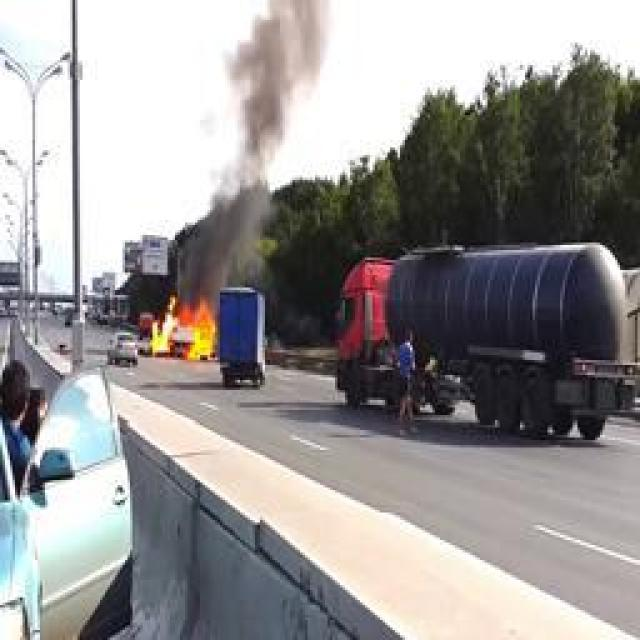Fire: (155, 298, 215, 360)
